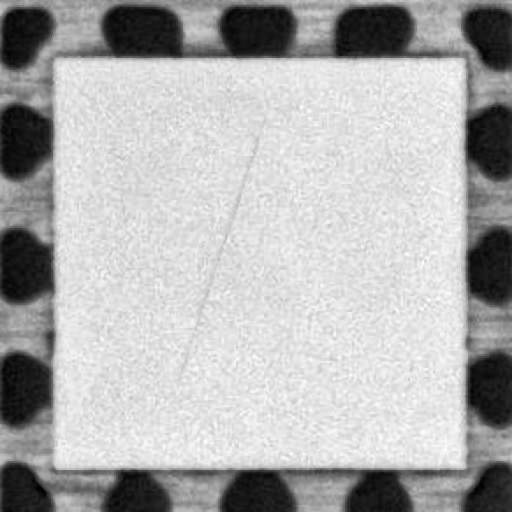DIE_CRACK: (176, 118, 262, 380)
